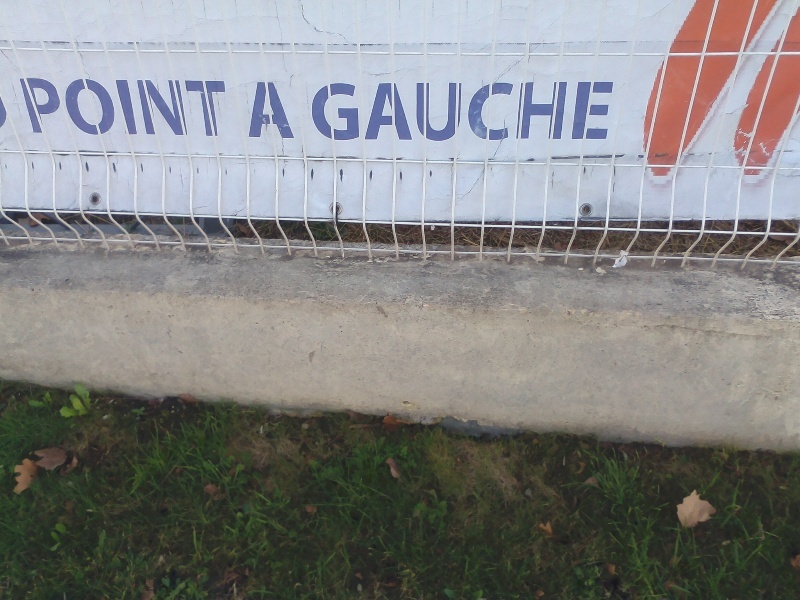text: (33, 77, 48, 138), (49, 77, 64, 138), (65, 77, 80, 138), (81, 77, 96, 138), (97, 77, 112, 138), (113, 77, 128, 138), (129, 77, 144, 138), (145, 77, 160, 138), (161, 77, 176, 138), (177, 77, 192, 138), (193, 77, 208, 138), (209, 77, 224, 138), (321, 81, 336, 141), (337, 81, 352, 141), (353, 81, 368, 141), (369, 81, 384, 141), (385, 81, 400, 141), (401, 81, 416, 141), (417, 81, 432, 141), (433, 81, 448, 141), (449, 81, 464, 141), (465, 81, 480, 141), (481, 81, 496, 141), (497, 81, 512, 141), (513, 81, 528, 141), (529, 81, 544, 141), (545, 81, 560, 141), (561, 81, 576, 141), (577, 81, 592, 141), (593, 81, 608, 141), (257, 81, 272, 140), (273, 81, 288, 140), (19, 77, 32, 138), (245, 81, 256, 140), (312, 81, 320, 141), (289, 81, 296, 140), (609, 81, 615, 141), (225, 77, 227, 138)
